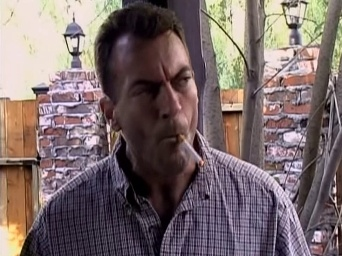smoke: (178, 131, 204, 166)
